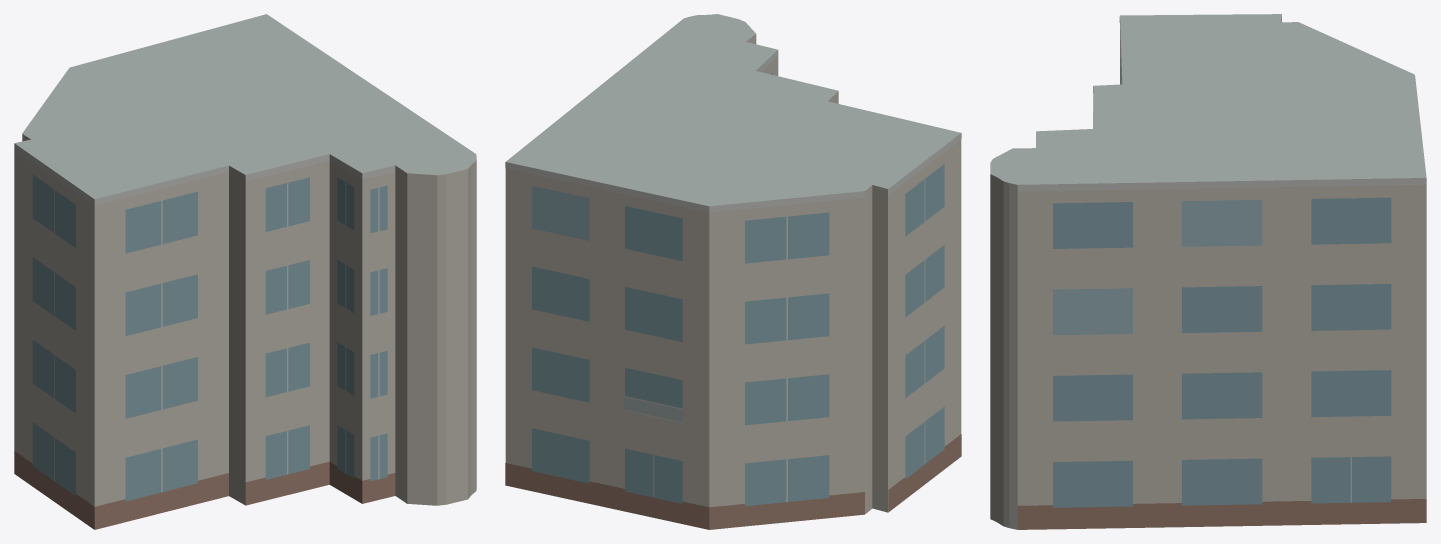
Rendered from survey-upis-32584471.glb.
3 views of the same model, side by side, from view 1: azimuth 30°, elevation 25°; view 2: azimuth 150°, elevation 25°; view 3: azimuth 270°, elevation 25° (orthographic). The views are drawn at different scales.
Parts seen in each view (by area): view 1: survey-upis-32584471.tmp; view 2: survey-upis-32584471.tmp; view 3: survey-upis-32584471.tmp.
Boxes of the visible parts, x1,y1,x2,y2 form: survey-upis-32584471.tmp: (14, 14, 476, 529); survey-upis-32584471.tmp: (505, 14, 961, 529); survey-upis-32584471.tmp: (990, 14, 1426, 529).
Size of the model in its own units: 13.17 by 12.4 by 14.22.
